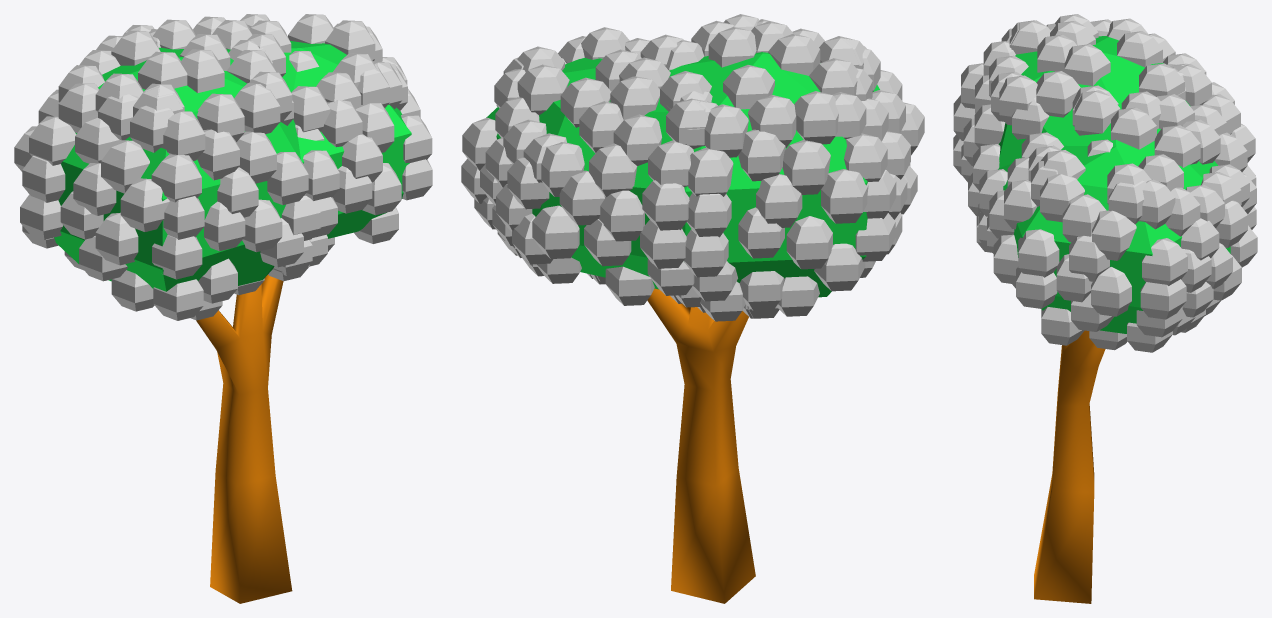
The model's file is Tree_352.fbx.
3 views of the same model, side by side, from view 1: azimuth 30°, elevation 25°; view 2: azimuth 150°, elevation 25°; view 3: azimuth 270°, elevation 25° (orthographic). The views are drawn at different scales.
Visible parts, largest first — view 1: Trunk, Leaf, Leaf|Sphere|Dupli|160, Leaf|Sphere|Dupli|175, Leaf|Sphere|Dupli|155, Leaf|Sphere|Dupli|154, Leaf|Sphere|Dupli|143, Leaf|Sphere|Dupli|157, Leaf|Sphere|Dupli|173, Leaf|Sphere|Dupli|142, Leaf|Sphere|Dupli|152, Leaf|Sphere|Dupli|150 (+51 smaller); view 2: Trunk, Leaf, Leaf|Sphere|Dupli|184, Leaf|Sphere|Dupli|193, Leaf|Sphere|Dupli|181, Leaf|Sphere|Dupli|70, Leaf|Sphere|Dupli|196, Leaf|Sphere|Dupli|71, Leaf|Sphere|Dupli|180, Leaf|Sphere|Dupli|195, Leaf|Sphere|Dupli|197, Leaf|Sphere|Dupli|69 (+57 smaller); view 3: Trunk, Leaf, Leaf|Sphere|Dupli|26, Leaf|Sphere|Dupli|2, Leaf|Sphere|Dupli|31, Leaf|Sphere|Dupli|25, Leaf|Sphere|Dupli|127, Leaf|Sphere|Dupli|129, Leaf|Sphere|Dupli|121, Leaf|Sphere|Dupli|5, Leaf|Sphere|Dupli|124, Leaf|Sphere|Dupli|128 (+58 smaller).
Part boxes in pixels (x1,y1,x2,y2): Trunk: (196, 274, 292, 603); Leaf: (54, 41, 411, 291); Leaf|Sphere|Dupli|160: (120, 178, 169, 231); Leaf|Sphere|Dupli|175: (101, 140, 149, 193); Leaf|Sphere|Dupli|155: (151, 154, 201, 202); Leaf|Sphere|Dupli|154: (234, 83, 280, 133); Leaf|Sphere|Dupli|143: (152, 235, 202, 279); Leaf|Sphere|Dupli|157: (95, 212, 138, 265); Leaf|Sphere|Dupli|173: (29, 116, 76, 165); Leaf|Sphere|Dupli|142: (267, 152, 308, 205); Leaf|Sphere|Dupli|152: (161, 111, 205, 160); Leaf|Sphere|Dupli|150: (197, 93, 244, 141); Trunk: (647, 288, 755, 603); Leaf: (486, 52, 879, 297); Leaf|Sphere|Dupli|184: (821, 169, 868, 223); Leaf|Sphere|Dupli|193: (782, 139, 830, 194); Leaf|Sphere|Dupli|181: (786, 216, 832, 269); Leaf|Sphere|Dupli|70: (532, 205, 579, 258); Leaf|Sphere|Dupli|196: (794, 91, 838, 144); Leaf|Sphere|Dupli|71: (642, 180, 689, 230); Leaf|Sphere|Dupli|180: (756, 174, 802, 227); Leaf|Sphere|Dupli|195: (738, 129, 785, 181); Leaf|Sphere|Dupli|197: (688, 147, 733, 196); Leaf|Sphere|Dupli|69: (599, 190, 644, 241); Trunk: (1034, 330, 1105, 603); Leaf: (998, 36, 1230, 333); Leaf|Sphere|Dupli|26: (1018, 229, 1059, 277); Leaf|Sphere|Dupli|2: (1142, 238, 1187, 285); Leaf|Sphere|Dupli|31: (1092, 210, 1136, 260); Leaf|Sphere|Dupli|25: (1091, 267, 1131, 316); Leaf|Sphere|Dupli|127: (1074, 90, 1120, 135); Leaf|Sphere|Dupli|129: (1036, 71, 1080, 117); Leaf|Sphere|Dupli|121: (1111, 107, 1156, 149); Leaf|Sphere|Dupli|5: (1140, 279, 1186, 319); Leaf|Sphere|Dupli|124: (1154, 125, 1200, 167); Leaf|Sphere|Dupli|128: (1064, 44, 1110, 85).
Bounding box in the file's own units: 642 × 877 × 456.
